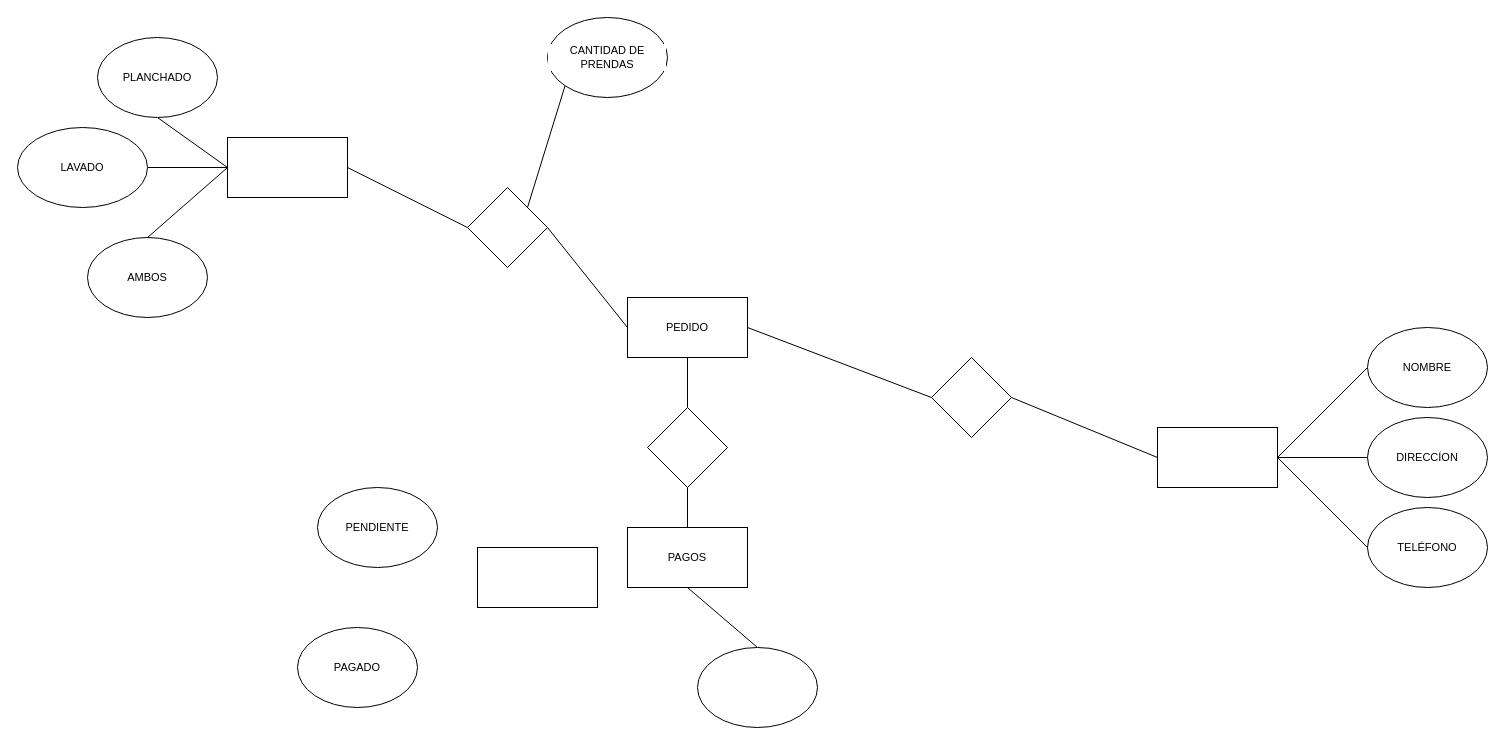
Some shapes in this 1505 by 745 pixel diagram are drawn without their labels. Each missing label, with the centre of its shape:
CLIENTE: pixel 1217 457
ELEGIR: pixel 507 227
FINALIZAR: pixel 687 447
SERVICIO: pixel 287 167
SOLICITAR: pixel 971 397
TOTAL: pixel 757 687
